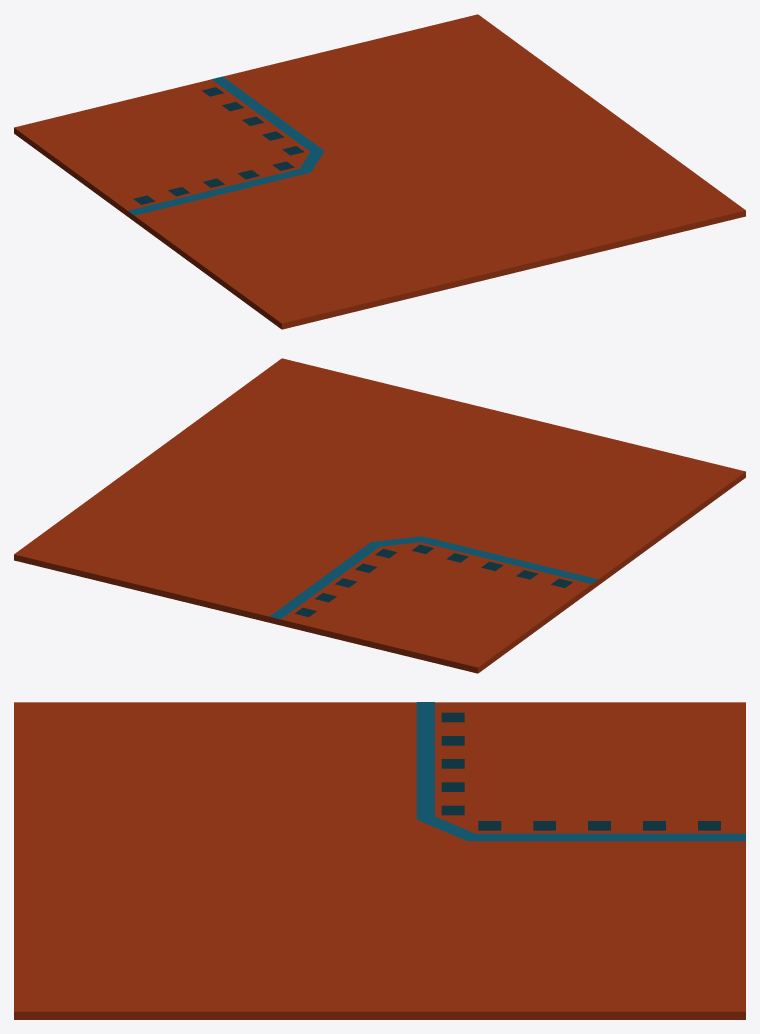
File: Tile_3-0.fbx
The picture shows the model from 3 angles, top to bottom: view 1: azimuth 30°, elevation 25°; view 2: azimuth 150°, elevation 25°; view 3: azimuth 270°, elevation 25°; orthographic projection. The views are drawn at different scales.
Visible parts, largest first — view 1: Tile_3-0; view 2: Tile_3-0; view 3: Tile_3-0.
Boxes of the visible parts, x1,y1,x2,y2 form: Tile_3-0: (14, 14, 745, 329); Tile_3-0: (14, 358, 745, 673); Tile_3-0: (14, 702, 745, 1019).
Size of the model in its own units: 4 by 4 by 0.051.
